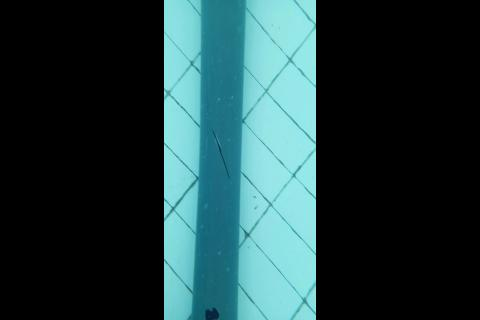kebocoran: (203, 305, 221, 319)
keretakan: (212, 129, 231, 179)
